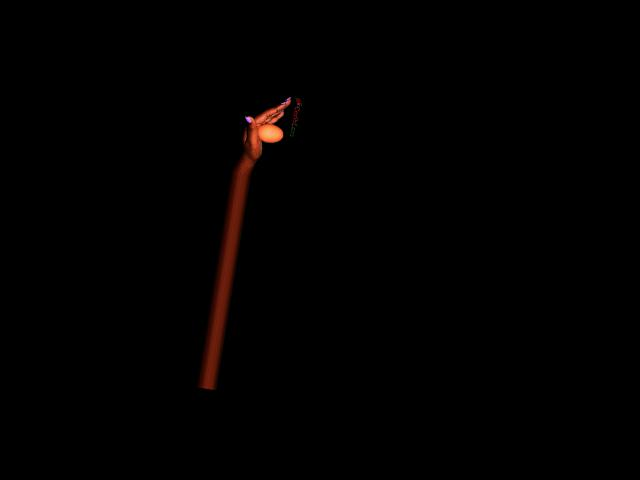egg: (256, 122, 284, 145)
